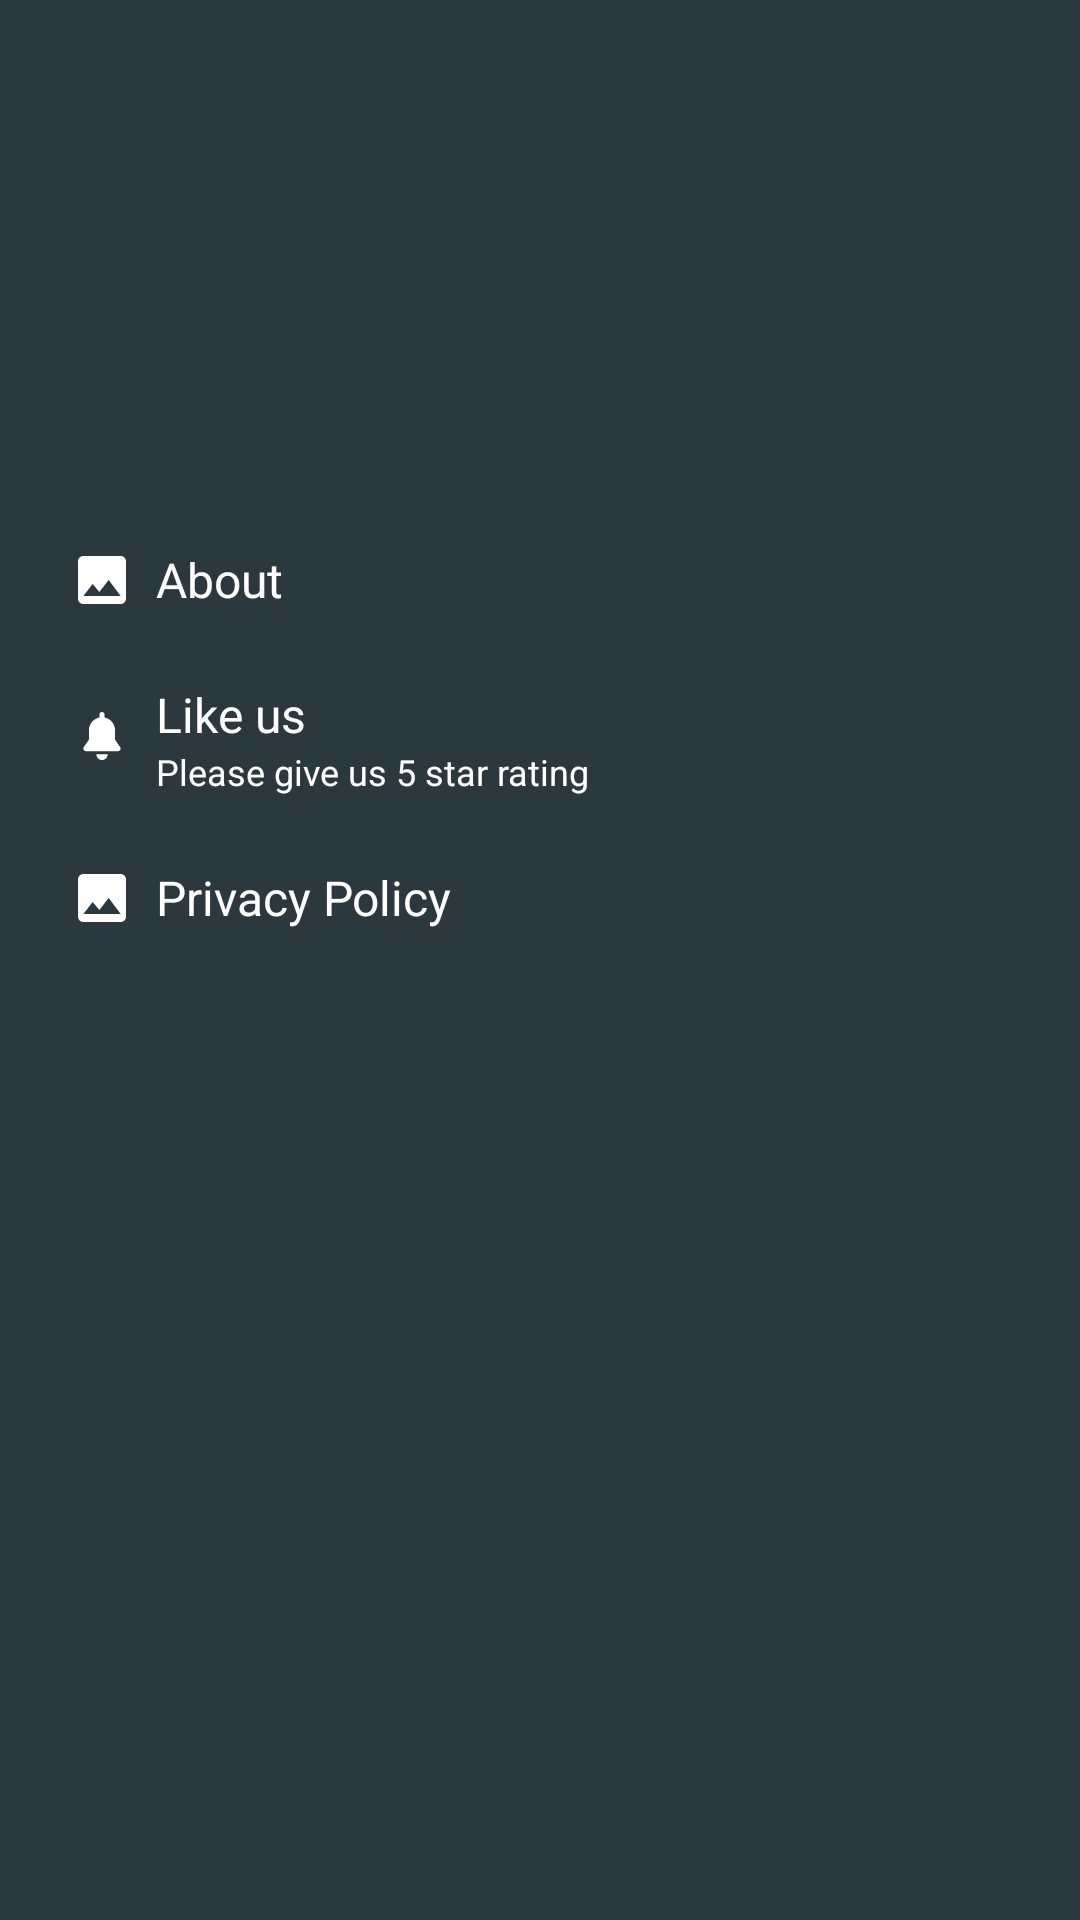

Named icons in this screenshot (1080px×1920px) and their bounding boxes, {"left": x1, "top": y1, "right": x2, "bottom": y2}:
bell: {"left": 83, "top": 712, "right": 121, "bottom": 760}
